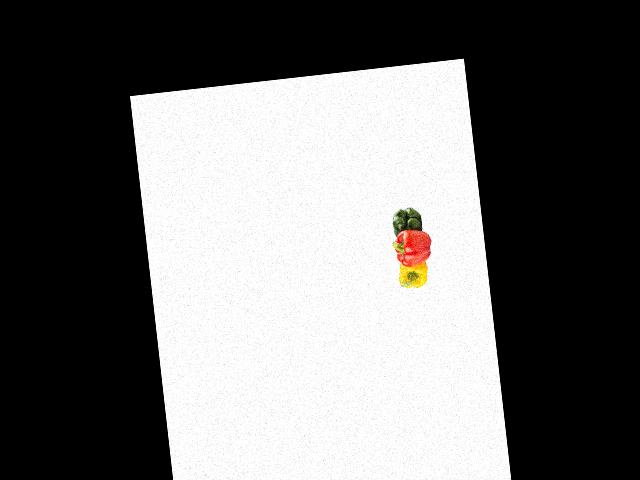bell_pepper: (393, 257, 435, 291)
